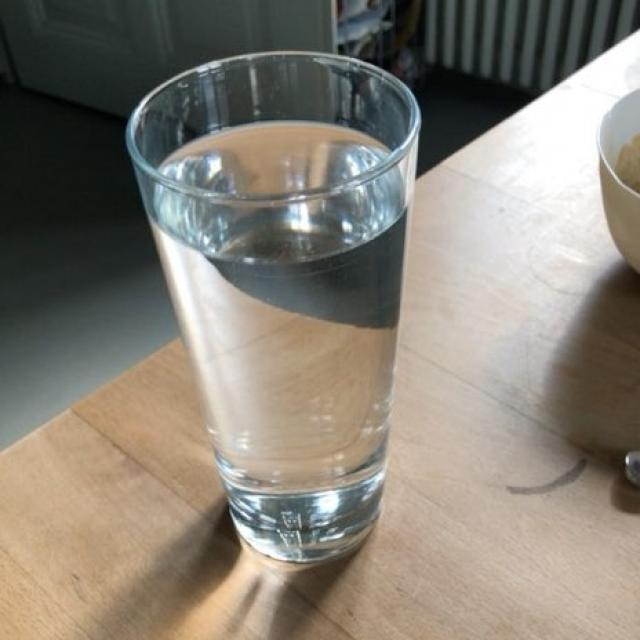water: (150, 118, 408, 526), (154, 128, 404, 483)
